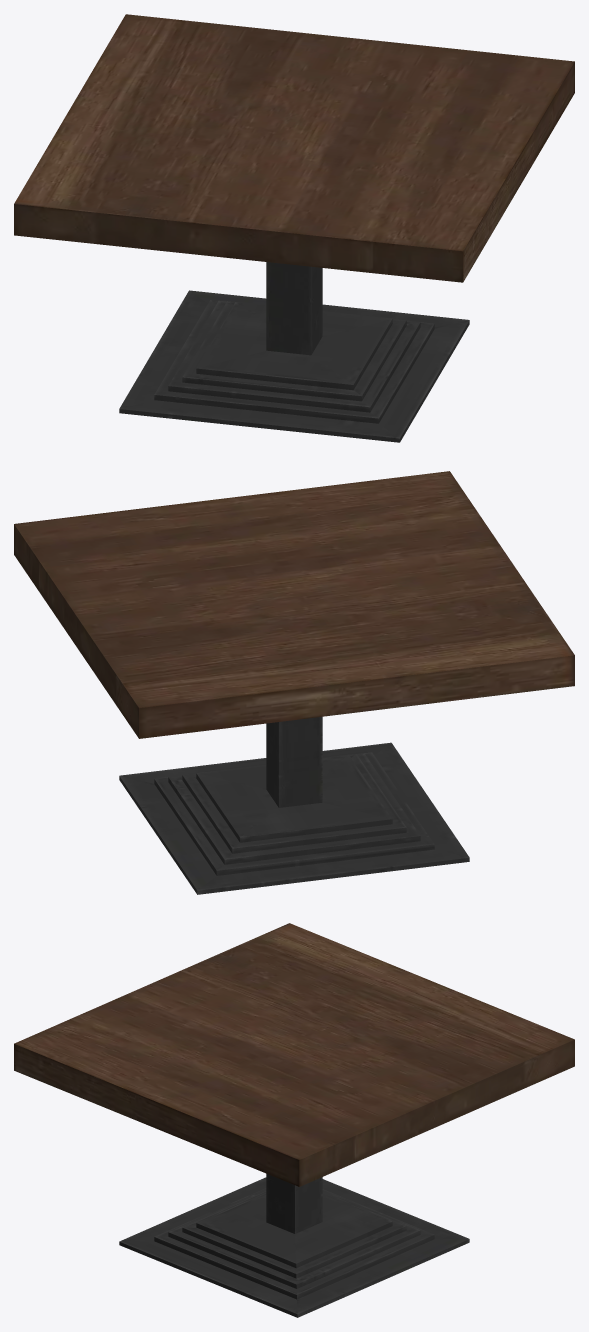
The model's file is table-basse.glb.
The picture shows the model from 3 angles, top to bottom: view 1: azimuth 30°, elevation 25°; view 2: azimuth 150°, elevation 25°; view 3: azimuth 270°, elevation 25°; orthographic projection. The views are drawn at different scales.
Visible parts, largest first — view 1: re_tb_02; view 2: re_tb_02; view 3: re_tb_02.
Boxes of the visible parts, <box> form: re_tb_02: <box>14,14,574,442</box>; re_tb_02: <box>14,471,574,894</box>; re_tb_02: <box>14,923,574,1317</box>.
Size of the model in its own units: 1.13 by 0.4499 by 1.13.
Materials: 1 (1 with a texture image).
